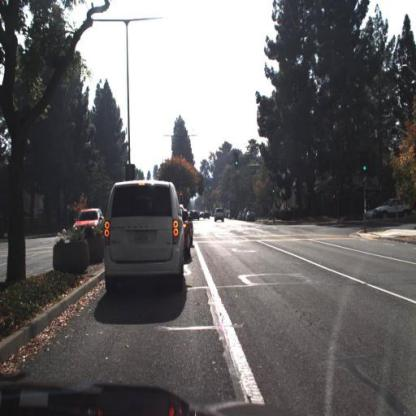car: (104, 178, 185, 300), (365, 192, 413, 230), (72, 205, 106, 249), (69, 206, 107, 244), (369, 194, 416, 222), (182, 206, 195, 266), (213, 206, 227, 227), (248, 209, 258, 224), (203, 213, 212, 222)
trafficLight-Green: (363, 152, 370, 172), (364, 159, 369, 179), (234, 148, 239, 166), (272, 180, 278, 195), (236, 154, 241, 170), (273, 189, 278, 203)
trafficLight-Red: (179, 190, 185, 205)
